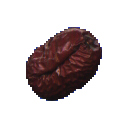ng: (20, 23, 108, 107)
